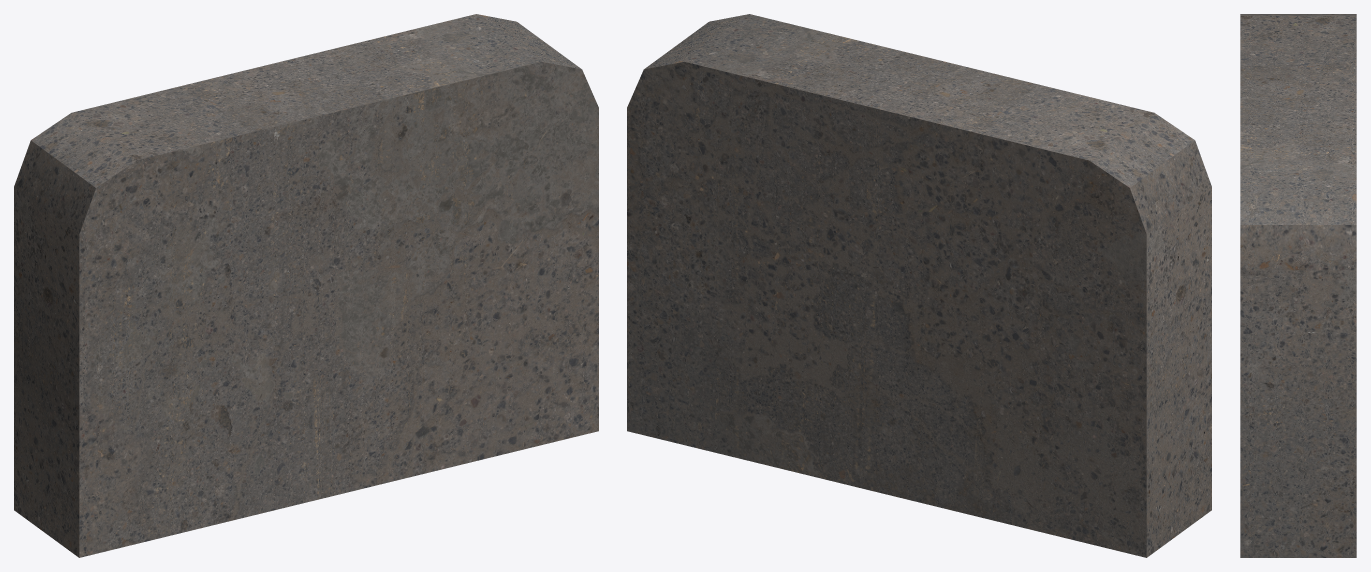
File: Zasłona_1.fbx
3 views of the same model, side by side, from view 1: azimuth 30°, elevation 25°; view 2: azimuth 150°, elevation 25°; view 3: azimuth 270°, elevation 25° (orthographic). The views are drawn at different scales.
Visible parts, largest first — view 1: Kloc_1; view 2: Kloc_1; view 3: Kloc_1.
Boxes of the visible parts, bbox=[...] form: Kloc_1: bbox=[14, 14, 598, 557]; Kloc_1: bbox=[627, 14, 1211, 557]; Kloc_1: bbox=[1240, 14, 1356, 557].
Bounding box in the file's own units: 41.9 × 29.54 × 9.11.
